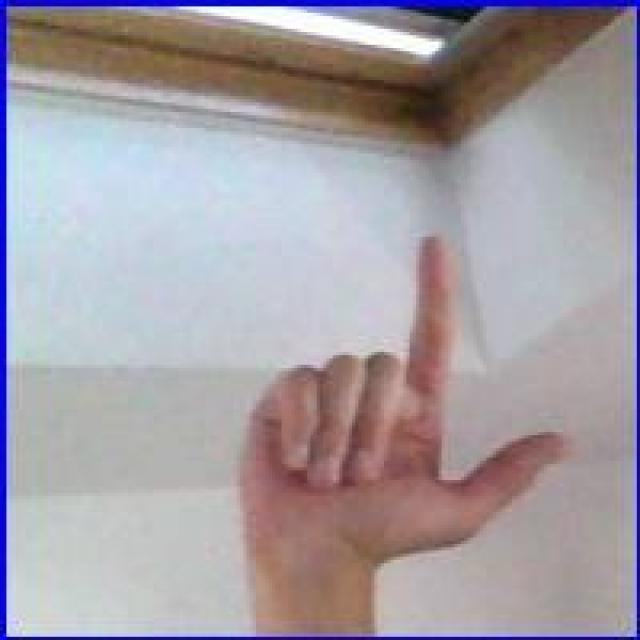L: (242, 221, 578, 557)
